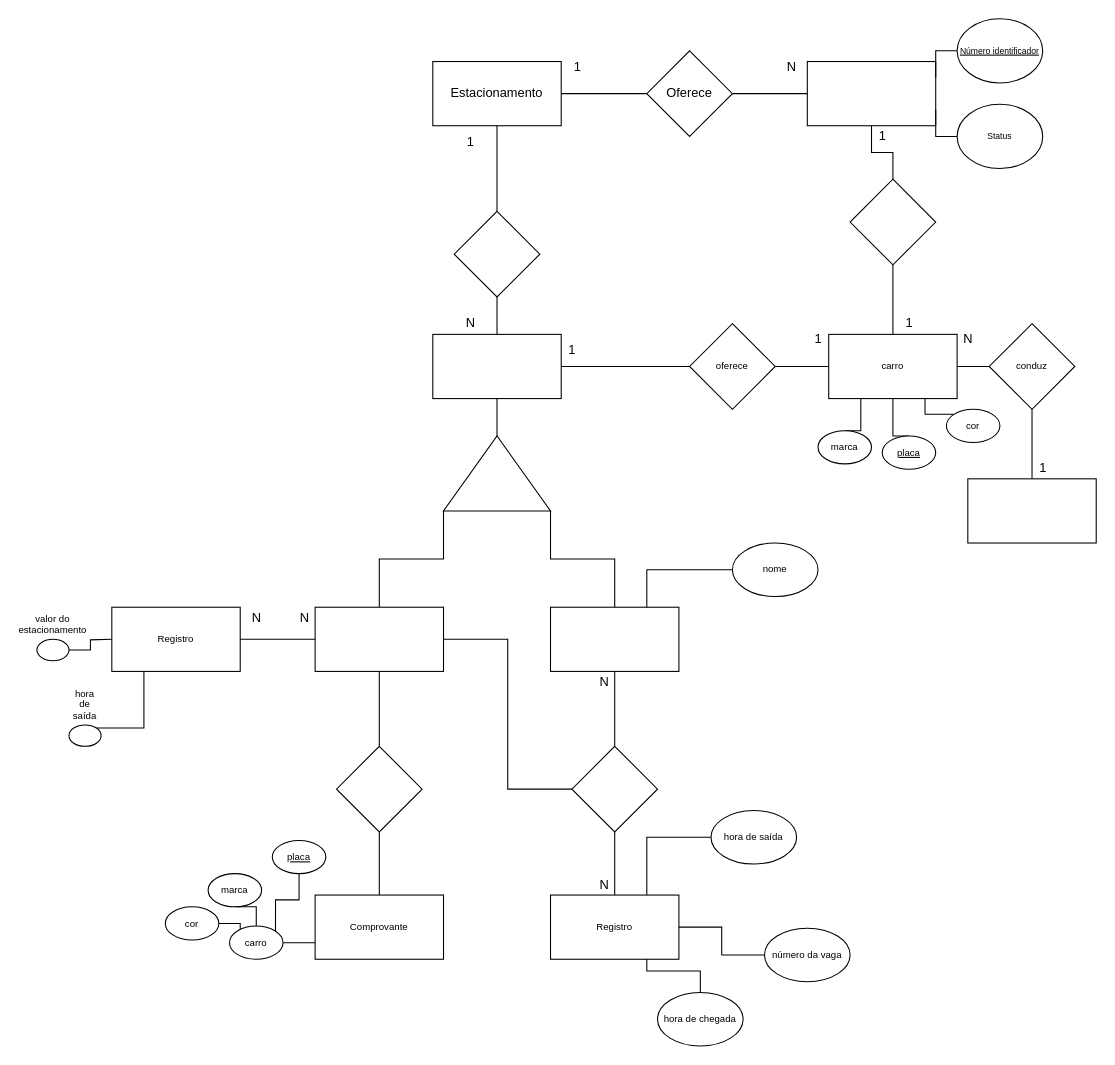
Some shapes in this 1115 by 1065 pixel diagram are drawn without their labels. The shapes that lost their labels are listed below. From the top down, each one's centre as x and y in pixels, then its label:
the point at 871,93: Vaga
the point at 892,221: comporta
the point at 496,253: frequenta
the point at 496,366: Cliente
the point at 1031,510: Manobrista
the point at 379,638: Cliente avulso
the point at 614,638: Cliente mensalista
the point at 378,788: recebe
the point at 614,788: registra
